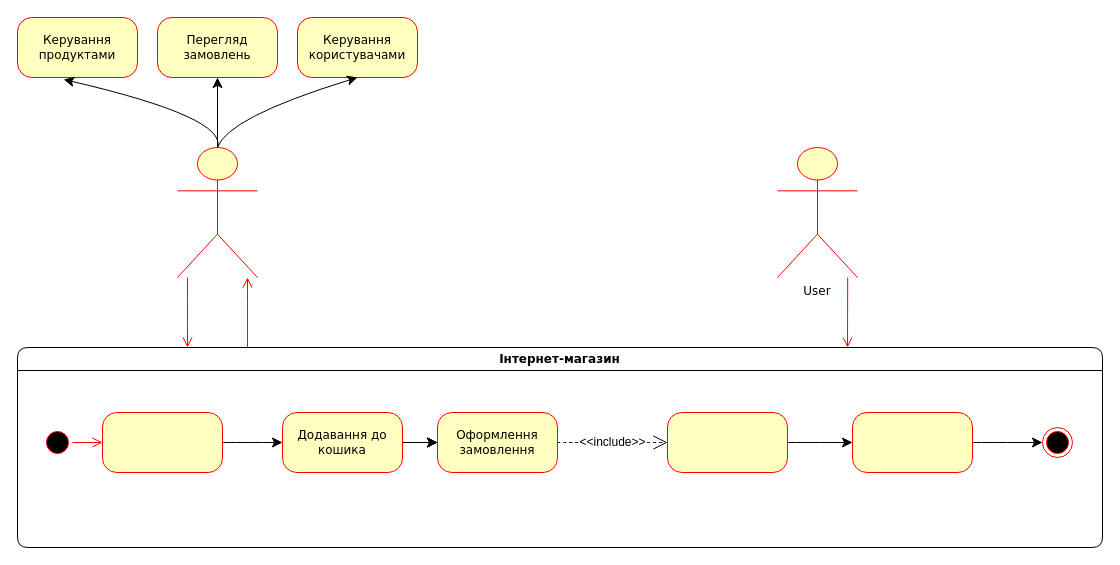
Some shapes in this 1120 by 565 pixel diagram are drawn without their labels. The centre of each missing label's shape, as x and y in pixels:
Admin: (217,212)
Здійснення оплати: (727,442)
Перегляд замовлення: (912,442)
Перегляд продуктів: (162,442)
